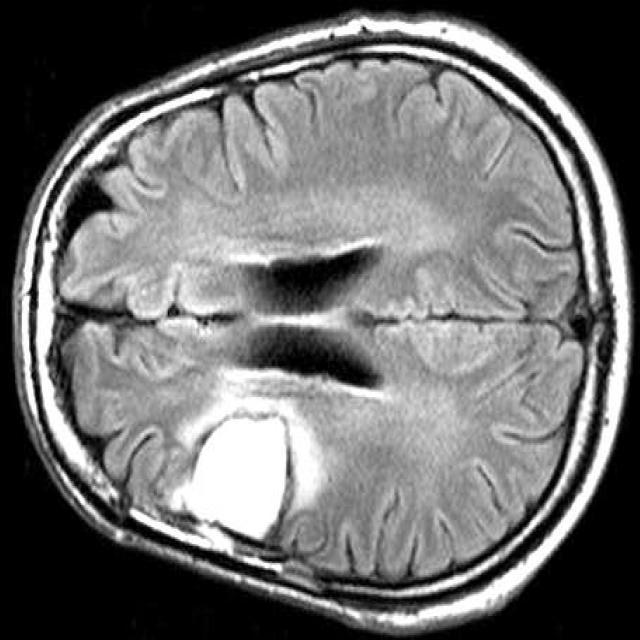tumor: (177, 416, 289, 544)
